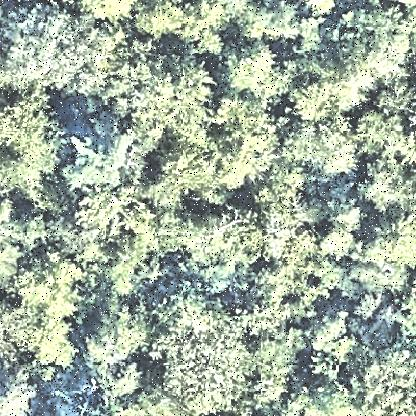tree-top: (147, 299, 263, 413), (149, 197, 265, 294), (1, 5, 123, 93), (124, 56, 216, 146), (17, 253, 92, 362), (1, 86, 67, 208), (326, 5, 412, 81), (211, 102, 288, 186), (135, 1, 233, 58), (71, 178, 152, 240), (61, 133, 133, 199), (79, 303, 145, 373), (352, 344, 416, 416), (225, 39, 295, 101), (1, 207, 50, 283), (152, 137, 218, 193), (292, 119, 358, 175), (364, 203, 416, 271), (356, 154, 413, 211), (234, 2, 310, 42), (287, 80, 349, 128), (358, 107, 410, 157), (90, 359, 149, 401), (2, 357, 43, 416), (302, 306, 348, 354), (320, 224, 366, 261), (376, 81, 416, 123), (299, 18, 331, 58)
